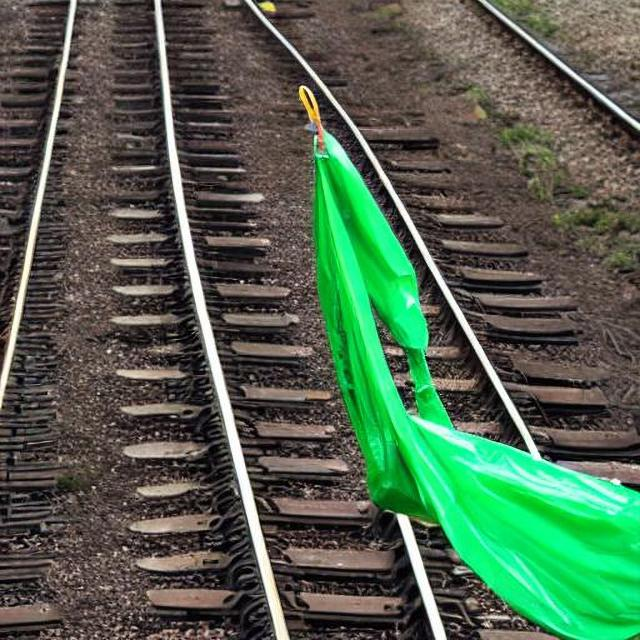floating object: (304, 112, 640, 640)
